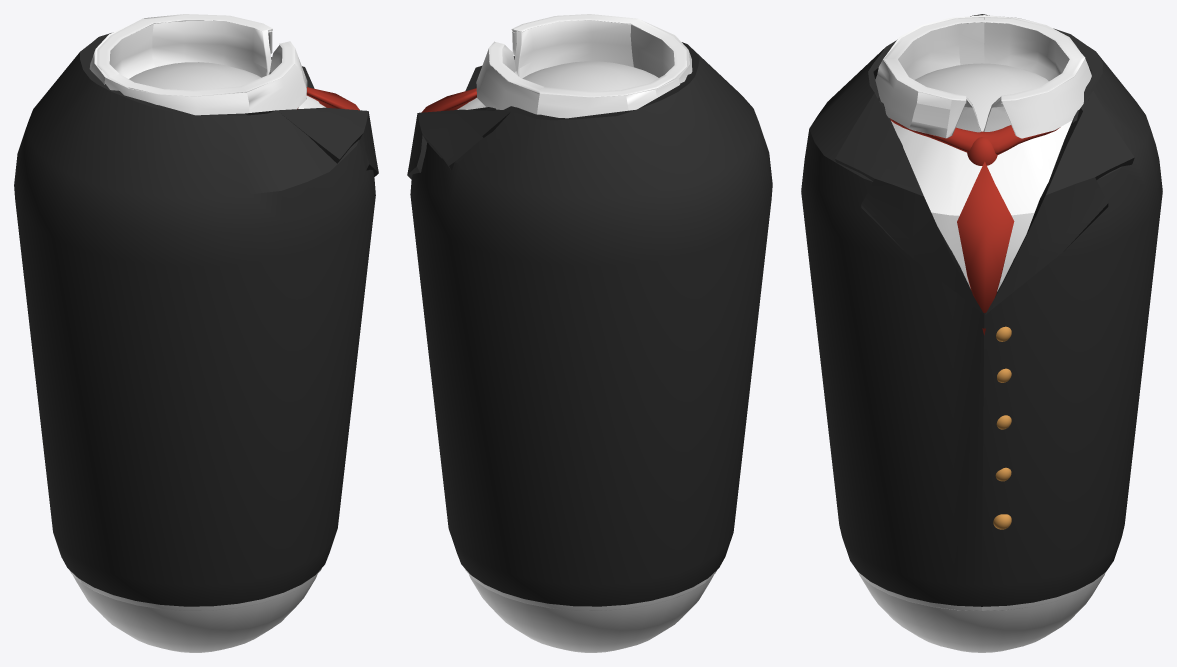
The model's file is body.fbx.
3 views of the same model, side by side, from view 1: azimuth 30°, elevation 25°; view 2: azimuth 150°, elevation 25°; view 3: azimuth 270°, elevation 25° (orthographic).
Parts seen in each view (by area): view 1: Sphere.004, Sphere, Cube.003, Cube.002, Cube.008, Cube.012; view 2: Sphere.004, Sphere, Cube.003, Cube.002, Cube.008, Cube.012; view 3: Sphere.004, Cube.003, Sphere, Cube.002, Cube.012, Cube.008, Torus, Sphere.003.
Boxes of the visible parts, box(x1,y1,x2,y2) form: Sphere.004: box(14, 33, 378, 606); Sphere: box(73, 62, 317, 652); Cube.003: box(69, 20, 325, 610); Cube.002: box(89, 24, 307, 115); Cube.008: box(97, 14, 294, 96); Cube.012: box(306, 87, 359, 110); Sphere.004: box(407, 42, 772, 606); Sphere: box(469, 61, 713, 652); Cube.003: box(457, 20, 716, 610); Cube.002: box(476, 20, 692, 118); Cube.008: box(489, 14, 686, 97); Cube.012: box(421, 88, 476, 112); Sphere.004: box(801, 14, 1162, 606); Cube.003: box(854, 20, 1109, 611); Sphere: box(859, 63, 1104, 652); Cube.002: box(875, 15, 1091, 138); Cube.012: box(957, 161, 1014, 335); Cube.008: box(884, 17, 1085, 103); Torus: box(890, 118, 1060, 154); Sphere.003: box(967, 137, 997, 165).
Size of the model in its own units: 273 by 475 by 267.
